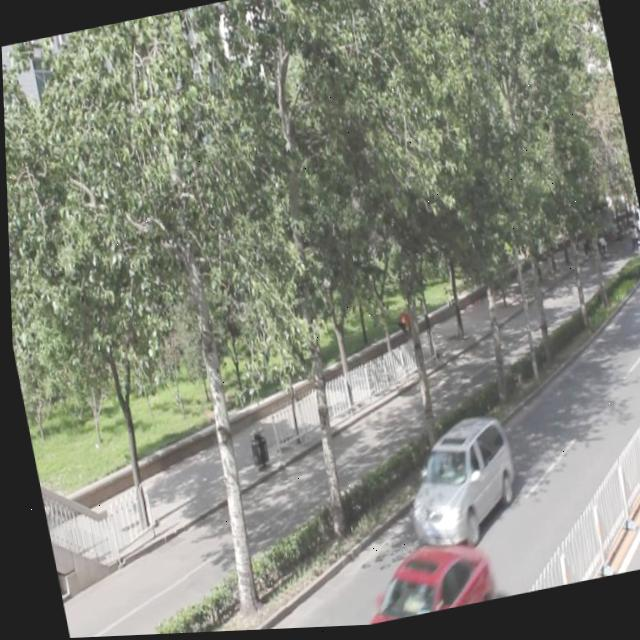car: (392, 415, 519, 553), (334, 538, 491, 629), (628, 314, 640, 388)
